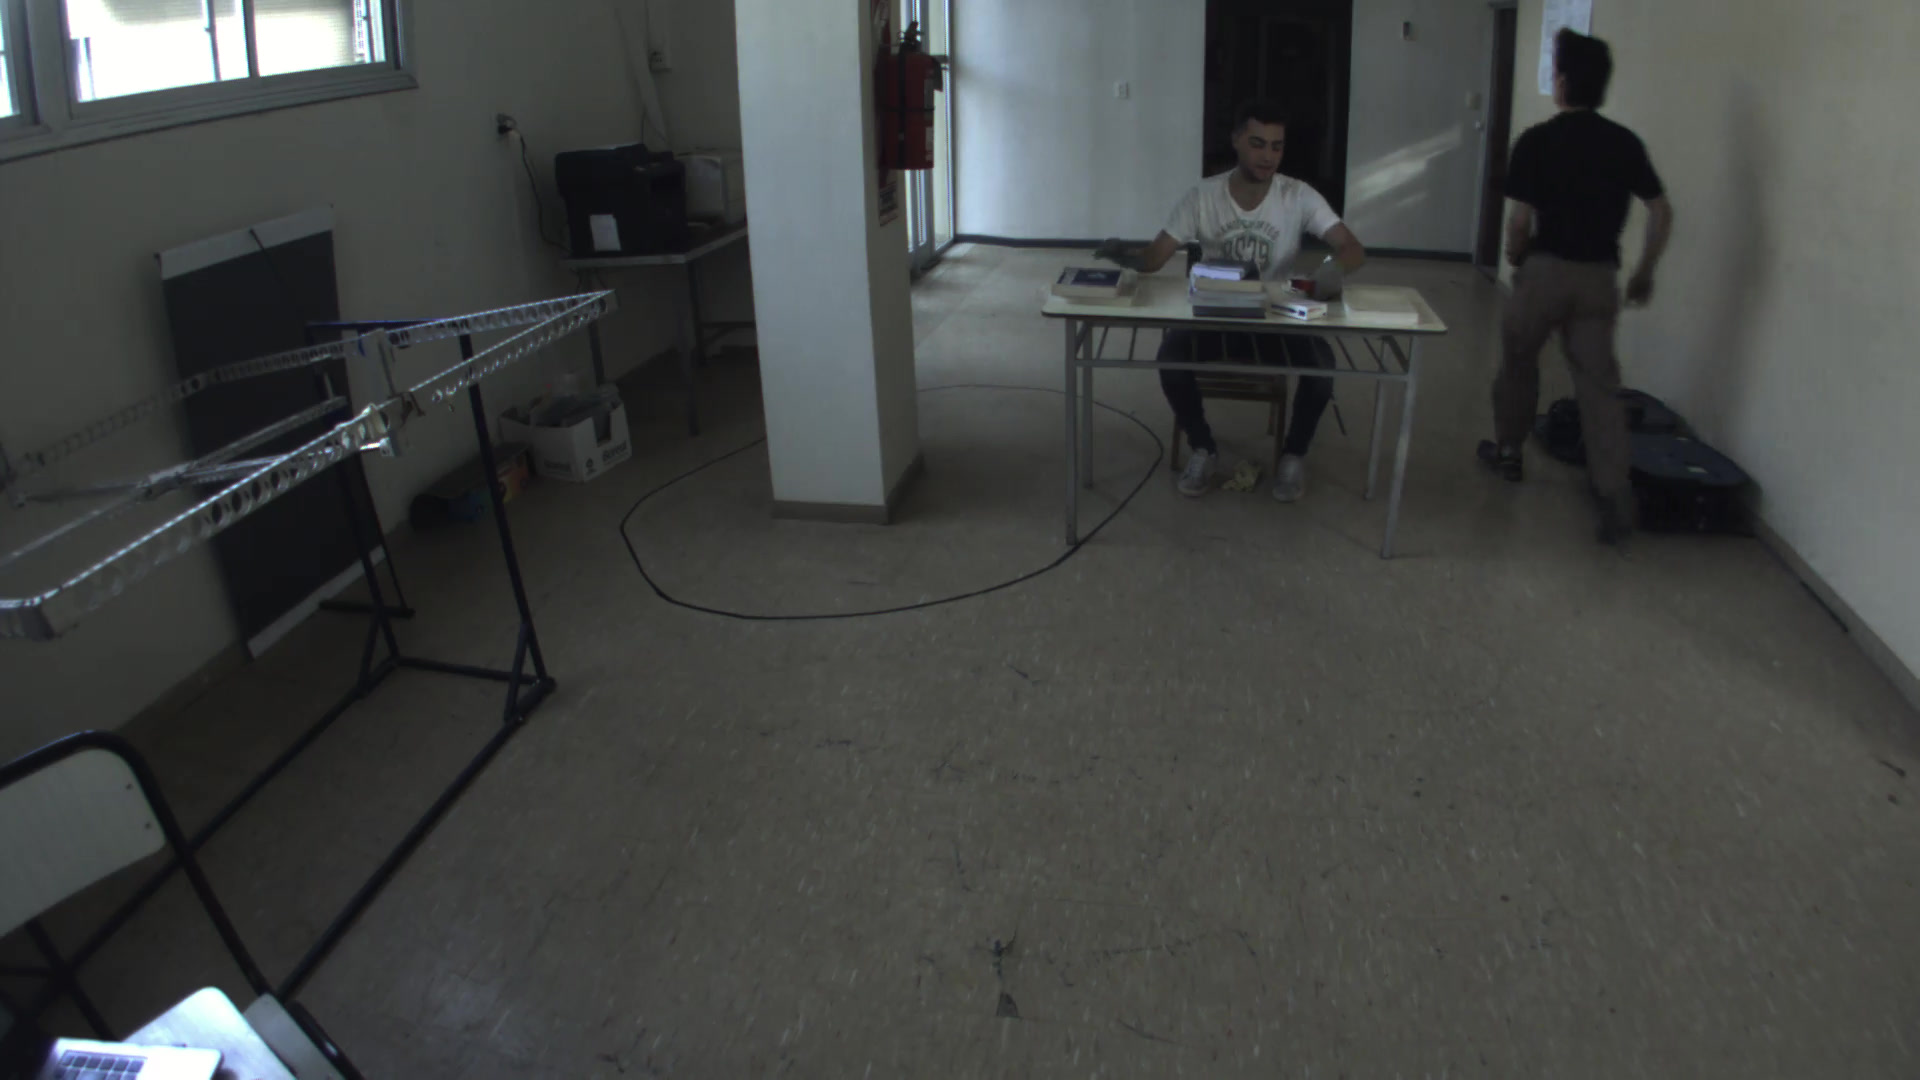hand: (1305, 264, 1352, 306), (1092, 235, 1139, 269)
